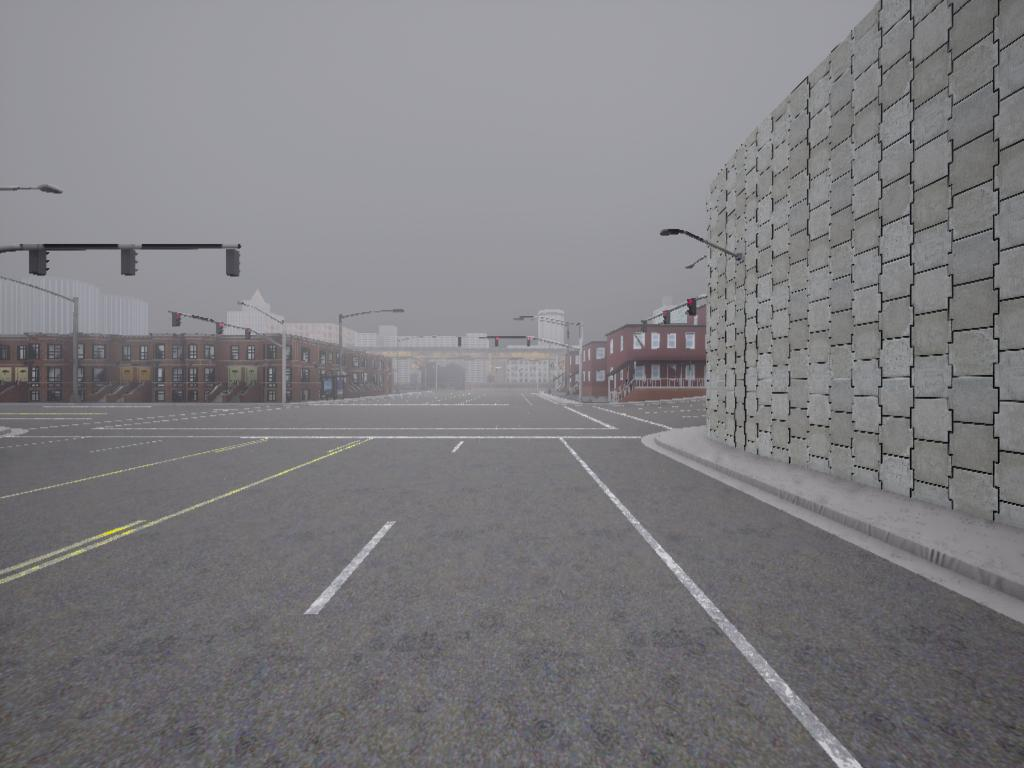traffic_light: (118, 248, 140, 278), (29, 248, 51, 277), (224, 250, 242, 280), (686, 299, 696, 321), (173, 313, 183, 329), (663, 309, 671, 329), (642, 319, 649, 336), (217, 322, 225, 336), (526, 336, 532, 351), (246, 328, 252, 342), (495, 336, 500, 351), (458, 337, 463, 349)
